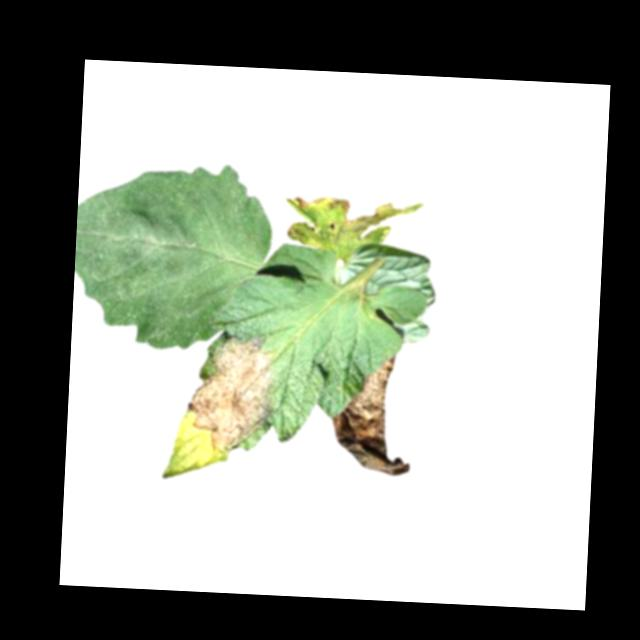Late_blight: (184, 331, 278, 457), (328, 351, 417, 478), (282, 191, 425, 261)
healthy: (71, 155, 276, 355)
